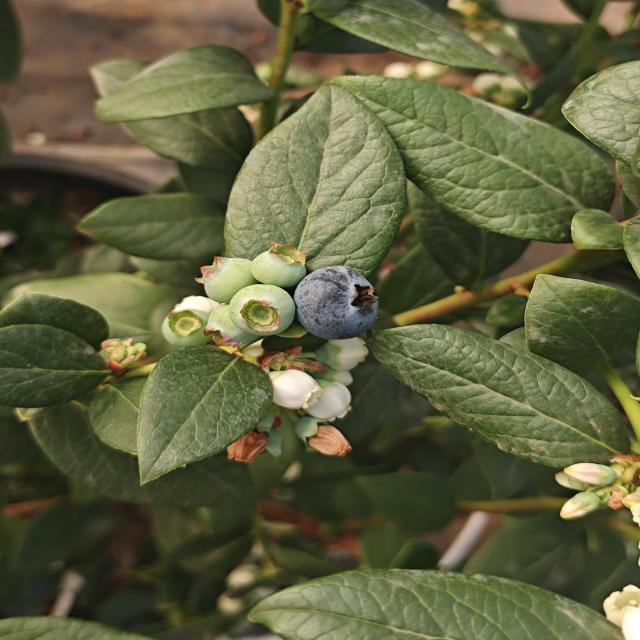ripe: (291, 263, 382, 342)
